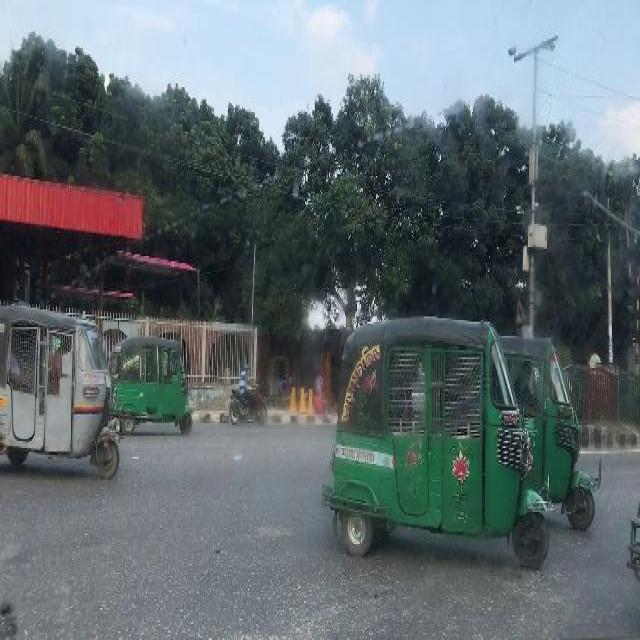motorbike: (227, 364, 269, 429)
three wheelers -CNG-: (328, 319, 524, 566), (0, 298, 124, 488), (523, 334, 603, 534), (108, 334, 194, 438)
